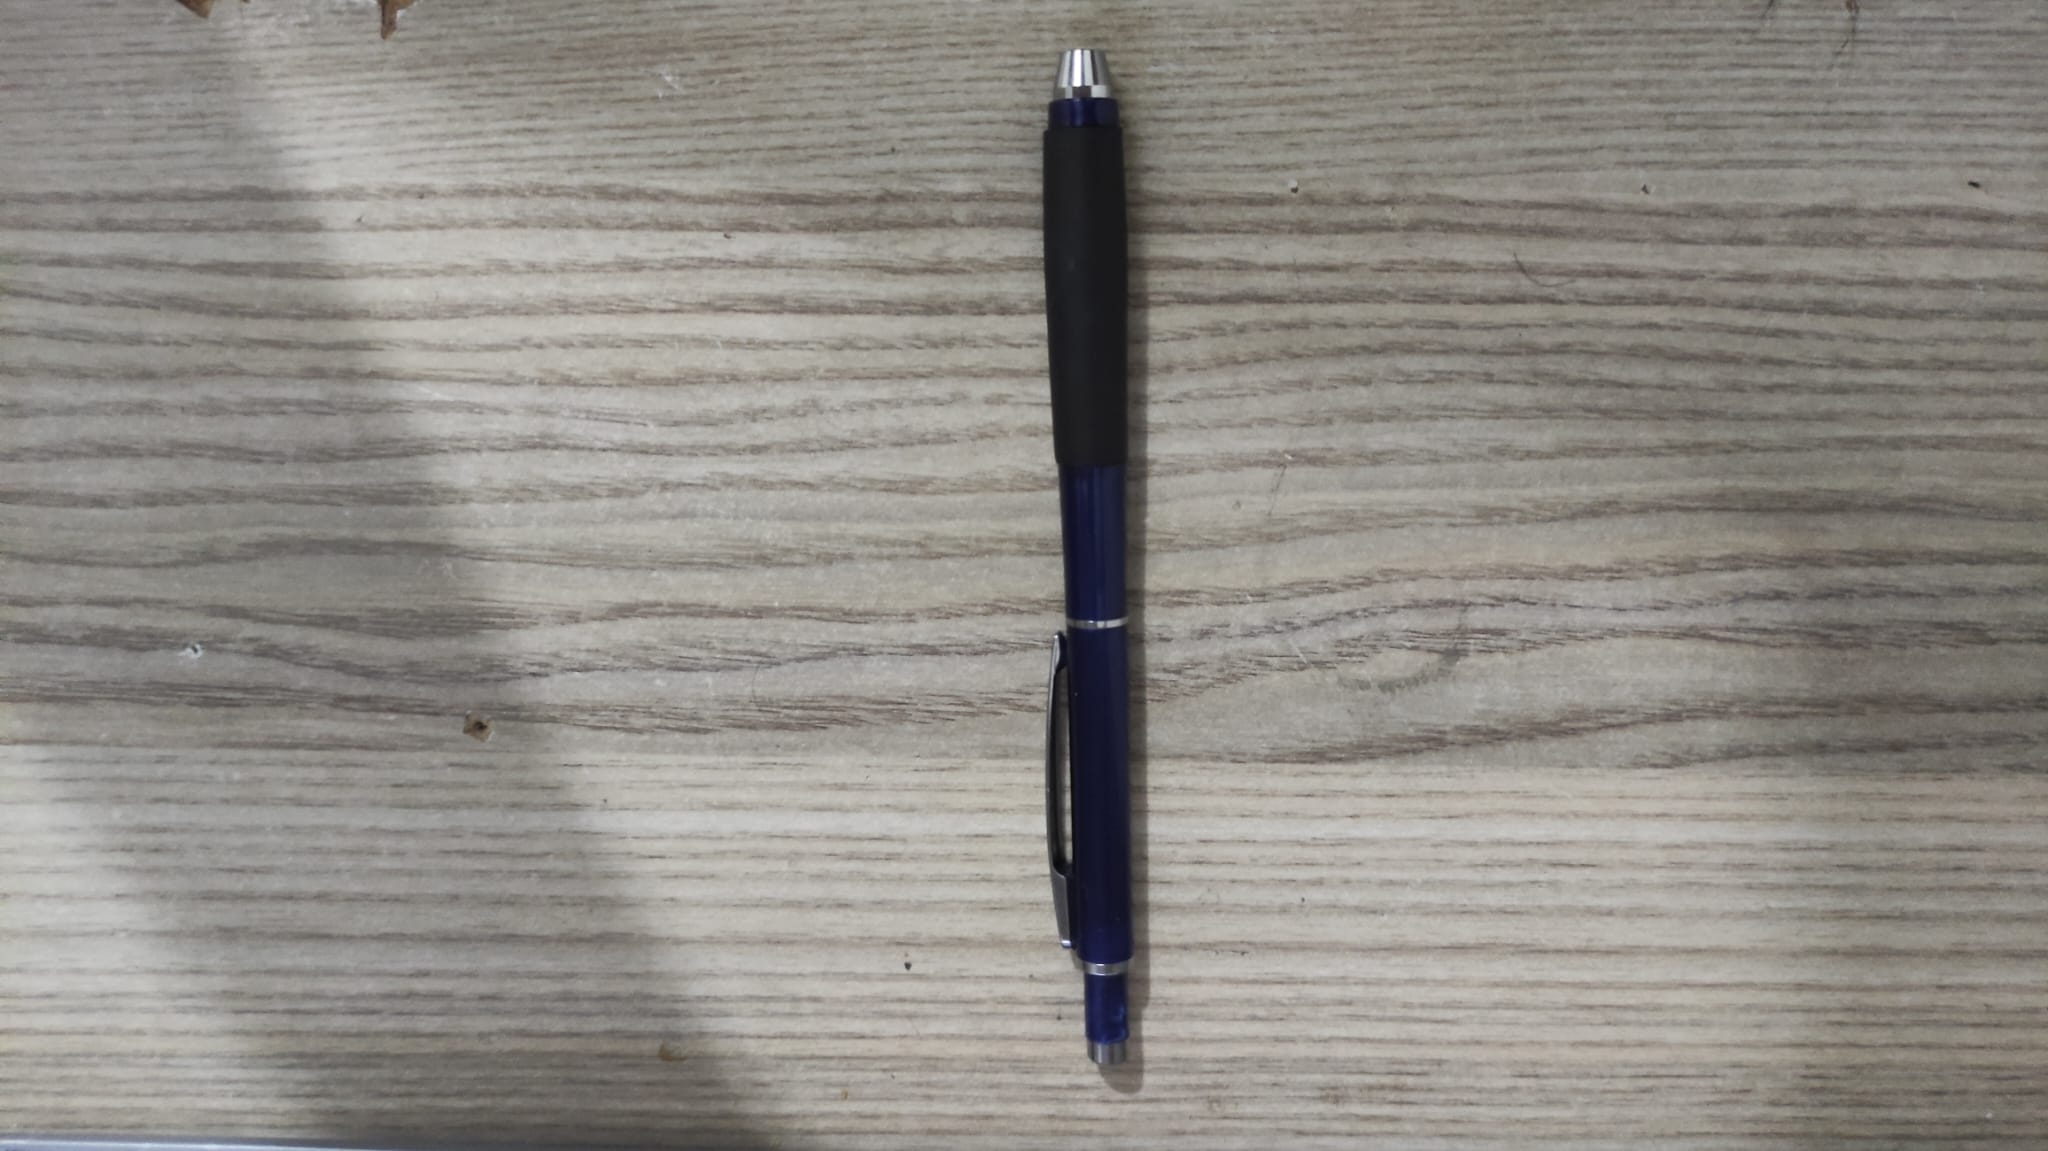kalem: (1041, 42, 1135, 1071)
